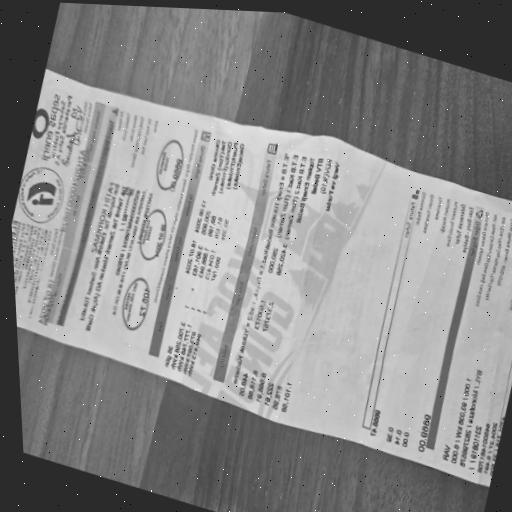electricity-bill: (12, 68, 512, 486)
